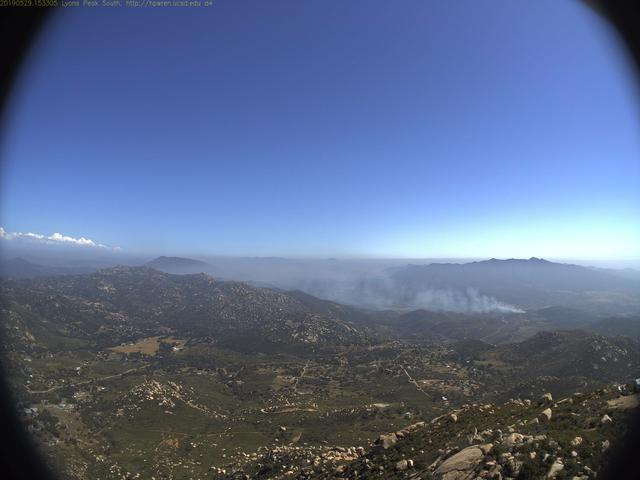smoke: (239, 257, 527, 316)
